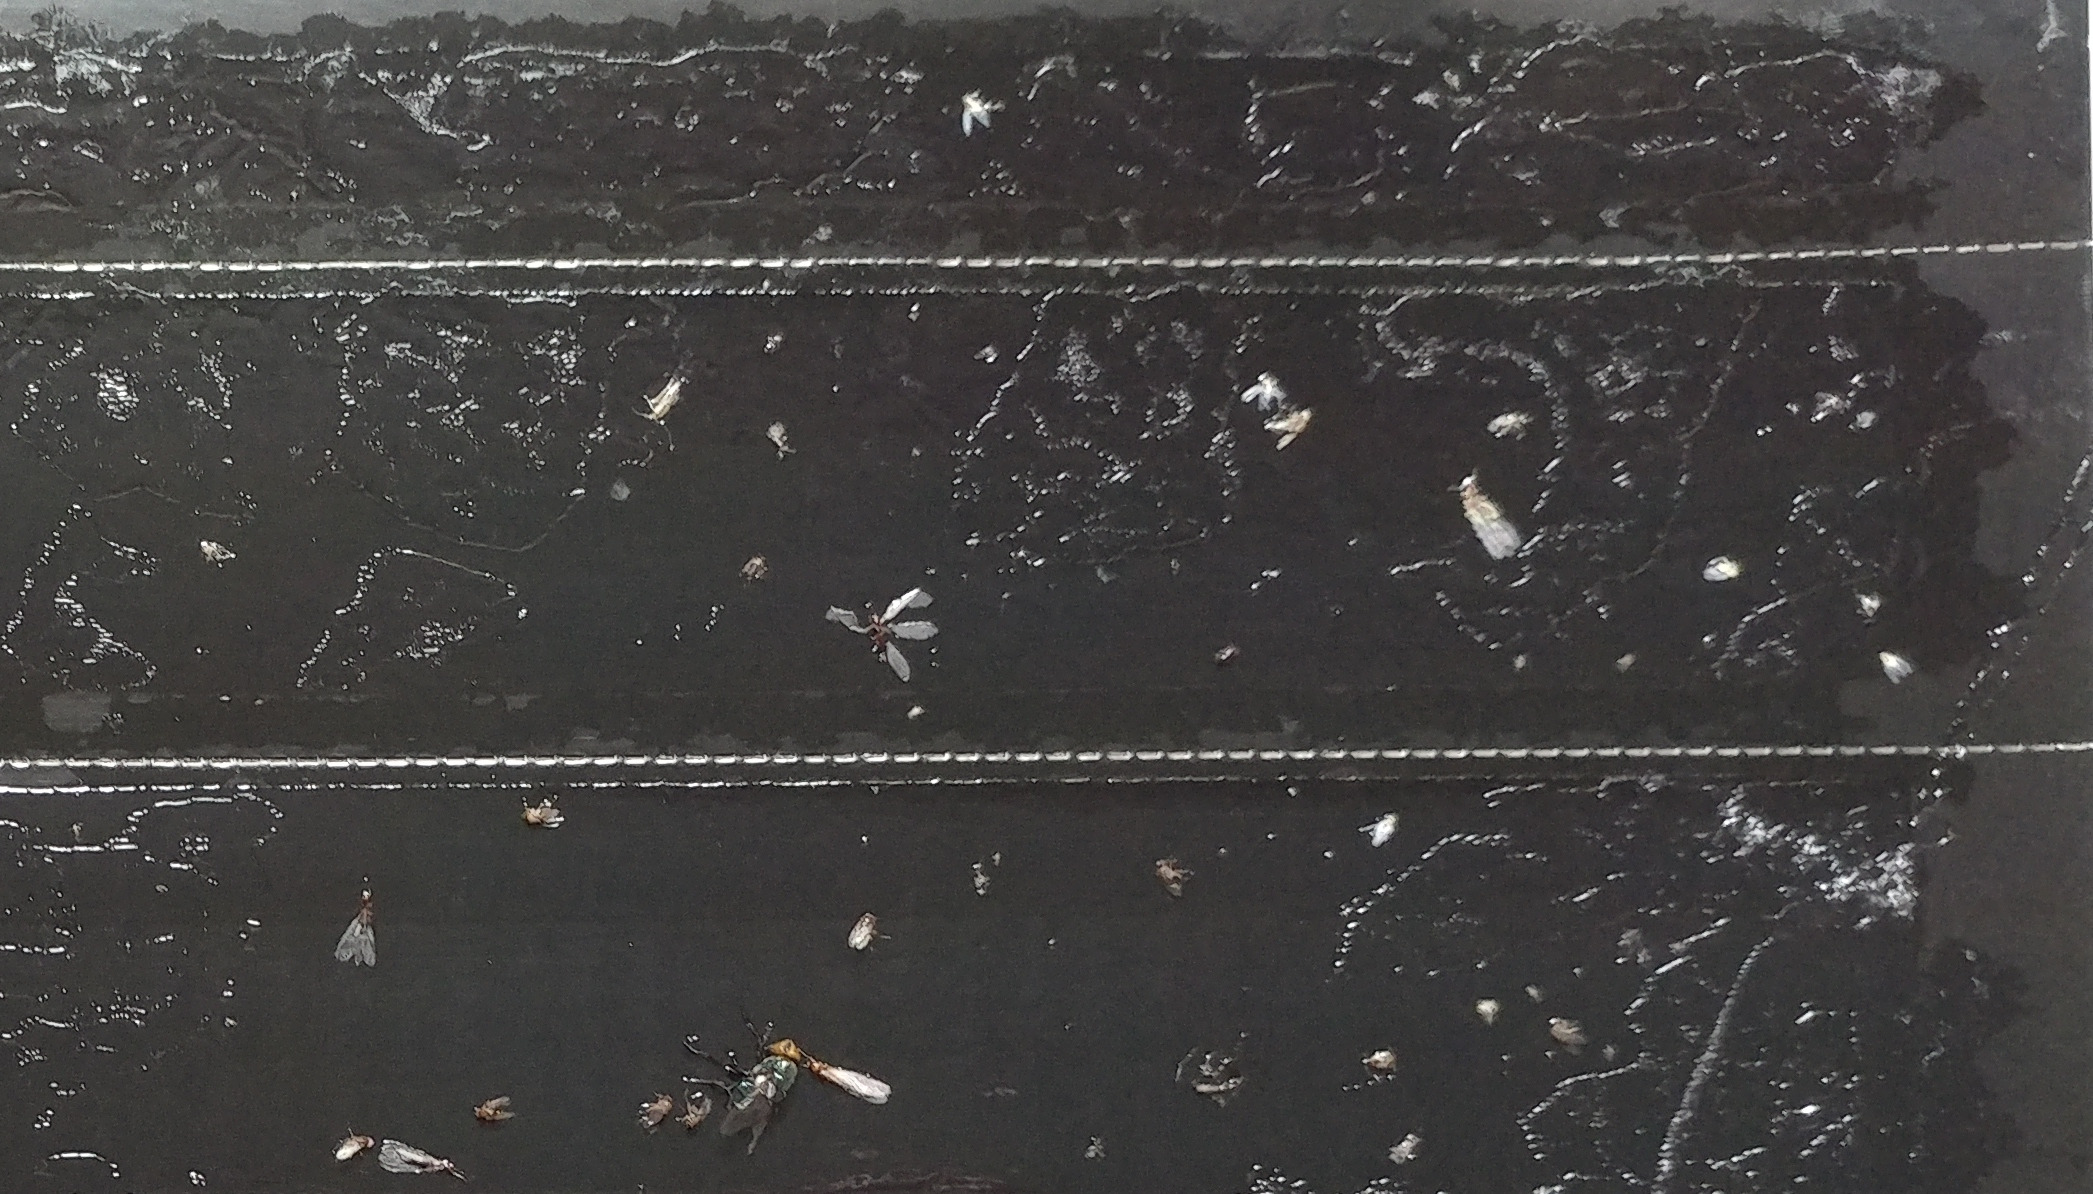fly: (676, 1019, 908, 1161)
